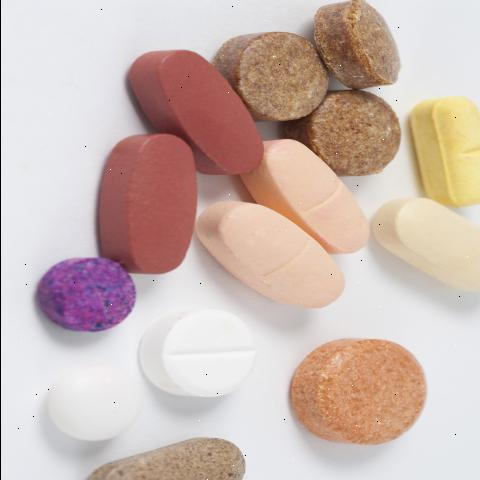Pill: (130, 304, 278, 404), (36, 366, 156, 447)
